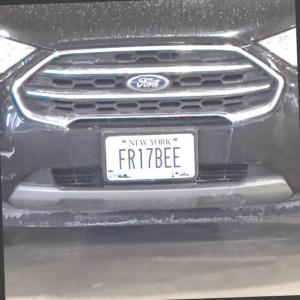Plate: (100, 125, 199, 183)
